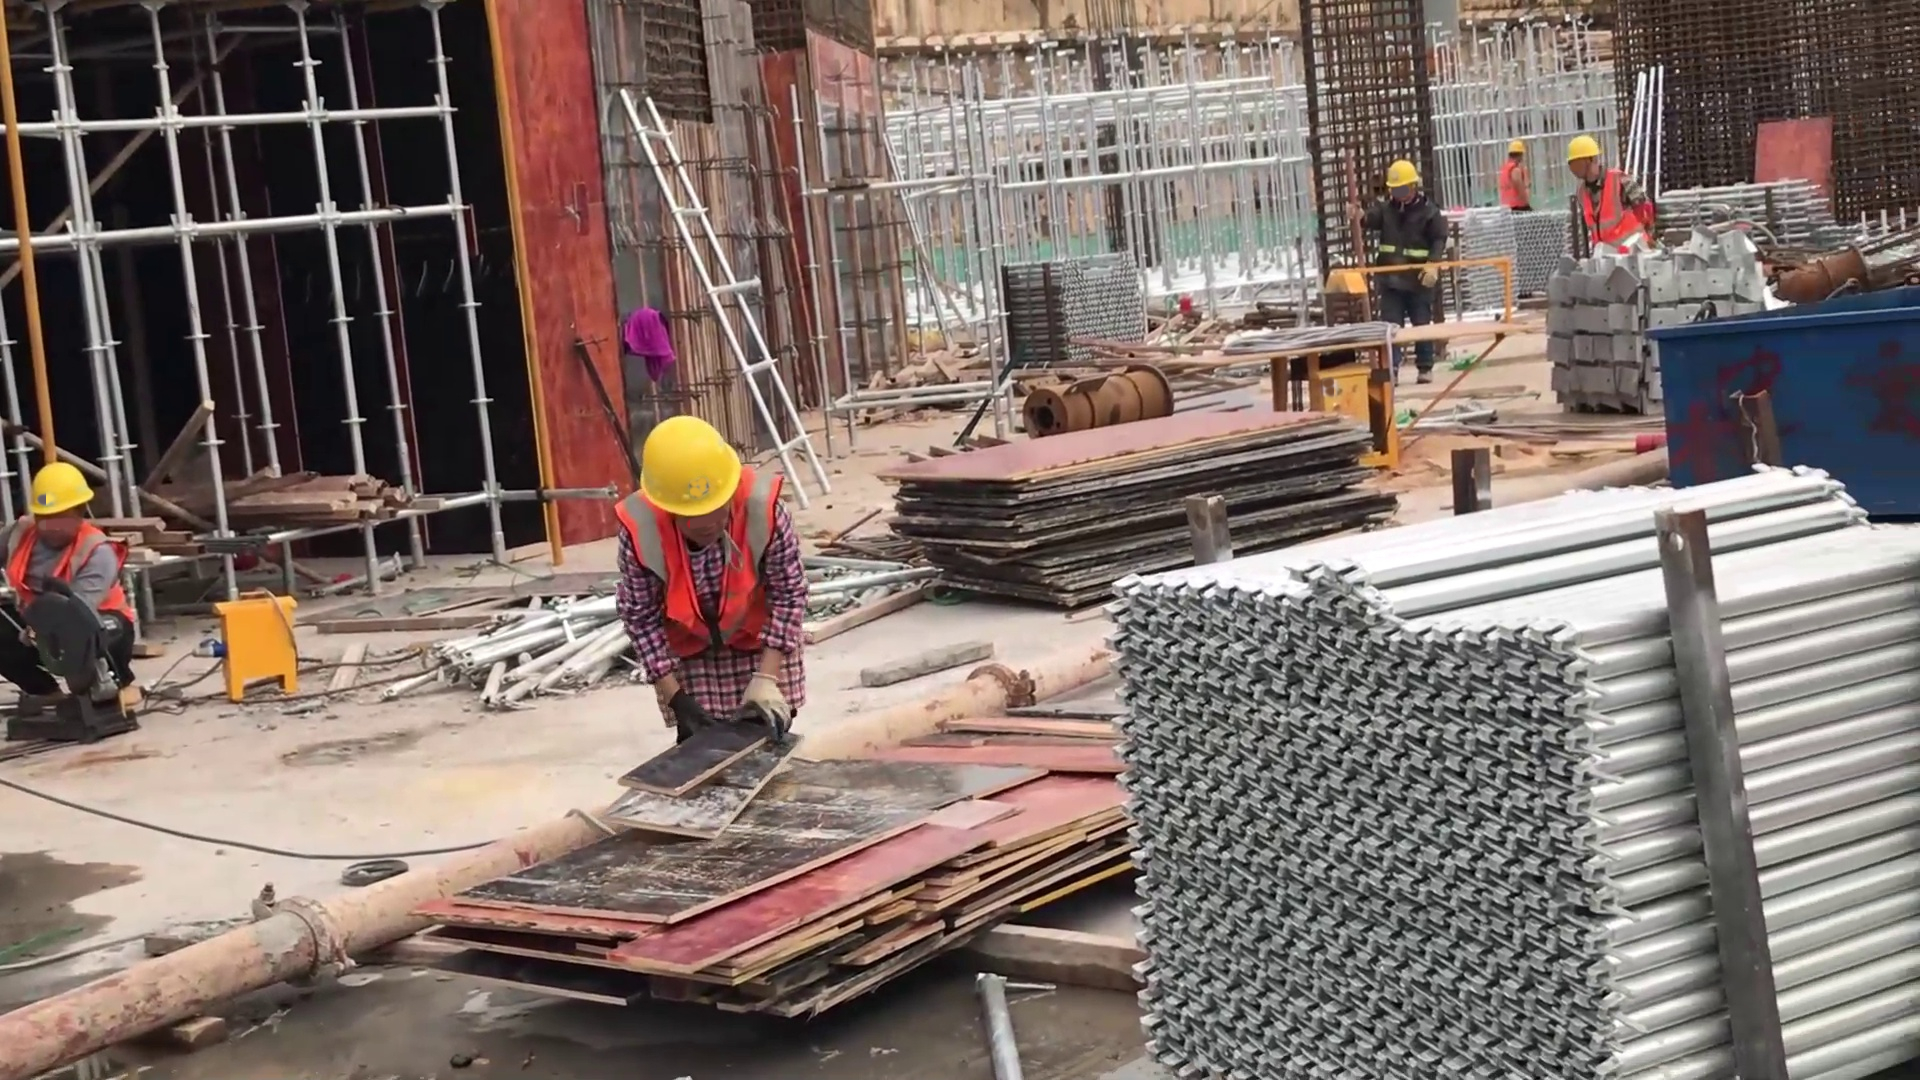board: (369, 650, 1193, 1057), (879, 400, 1412, 609)
cutter: (1222, 312, 1436, 476)
ebox: (200, 586, 307, 702)
helmet: (619, 410, 757, 531), (17, 453, 107, 527), (1379, 160, 1429, 200), (1561, 131, 1605, 171), (1501, 135, 1529, 161)
hopper: (1660, 300, 1920, 518)
person: (598, 405, 831, 769), (1, 455, 157, 757), (1357, 160, 1460, 381), (1555, 129, 1669, 286), (1491, 122, 1548, 234)
scaffold: (1100, 452, 1920, 1079), (996, 250, 1165, 371)
vest: (615, 457, 786, 667), (7, 524, 141, 637), (1568, 167, 1649, 259), (1497, 159, 1537, 211)
